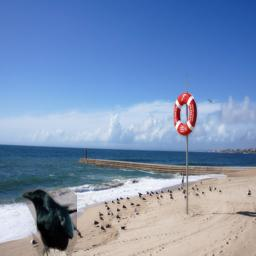Crow: (22, 189, 77, 256)
